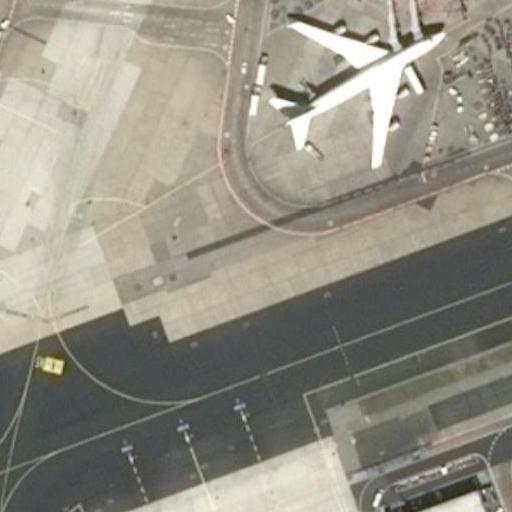Aircraft: (265, 14, 446, 169)
